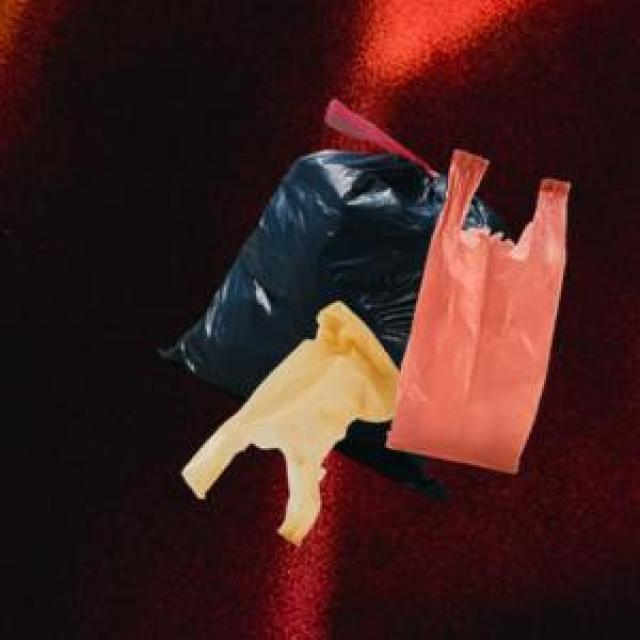miscellaneous trash: (156, 96, 508, 497)
